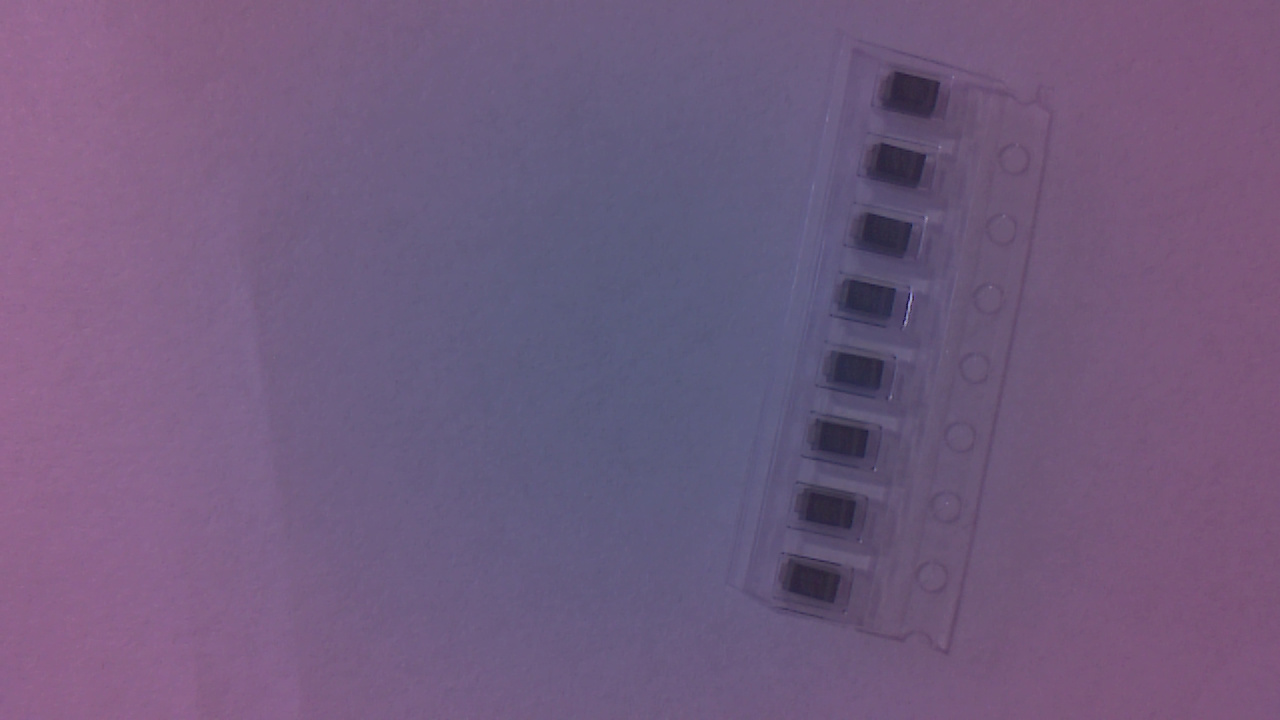Diode: (798, 487, 872, 543), (809, 418, 883, 470), (836, 278, 908, 331), (783, 560, 856, 610), (866, 145, 935, 197), (879, 73, 951, 122), (853, 216, 924, 263), (827, 353, 898, 399)
